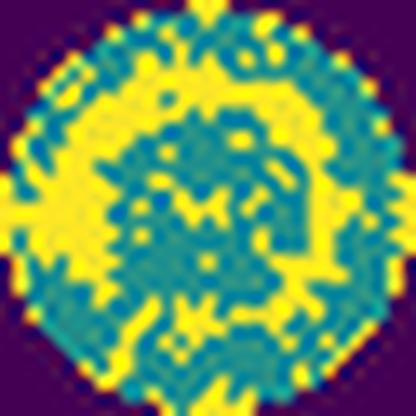Donut: (9, 49, 372, 350)
